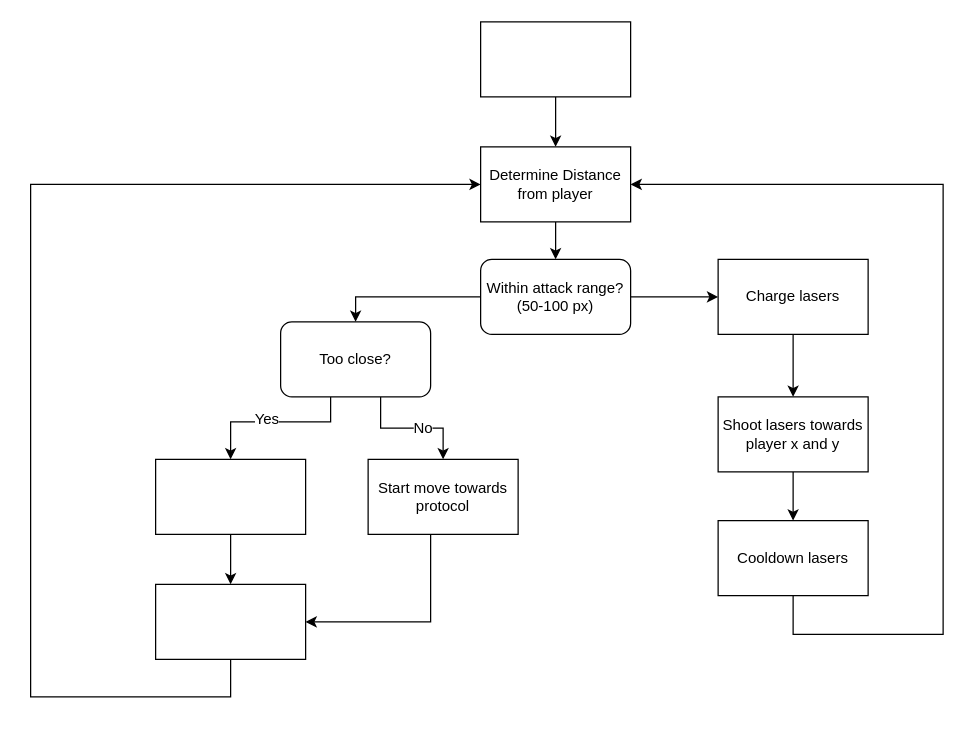
This 975x729 diagram has some shape labels left out. The shapes that lost their labels are listed below. From the top down, each one's centre as x and y in pixels, then its label:
(x=555, y=59): Ranged Enemy Start
(x=230, y=496): Start move away protocol
(x=230, y=621): Back to start
